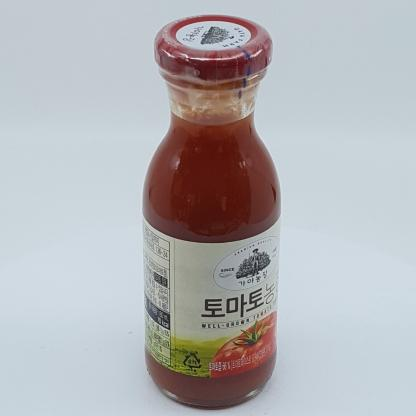-------180ML: (142, 14, 281, 409)
